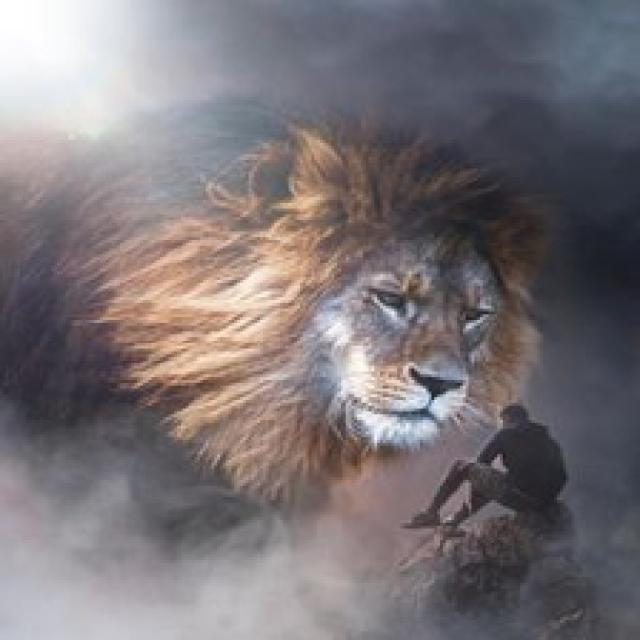lion: (48, 117, 541, 477)
